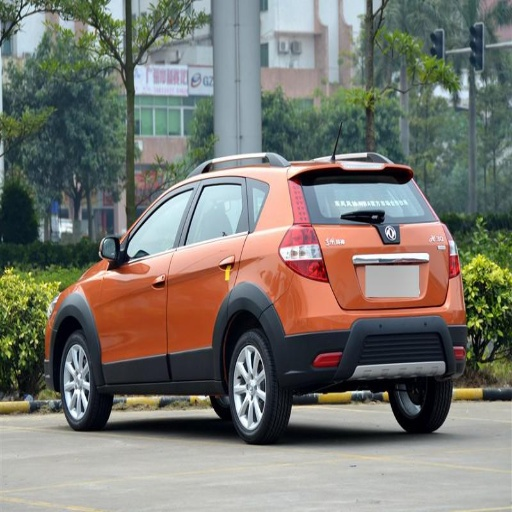back_bumper: (264, 271, 464, 390)
back_glass: (301, 169, 410, 184)
back_left_door: (171, 175, 249, 379)
tailgate: (301, 184, 442, 306)
